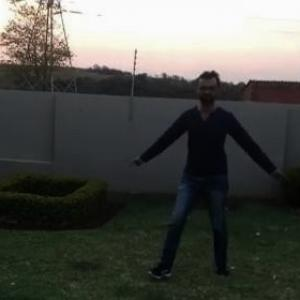land: (156, 80, 264, 239)
